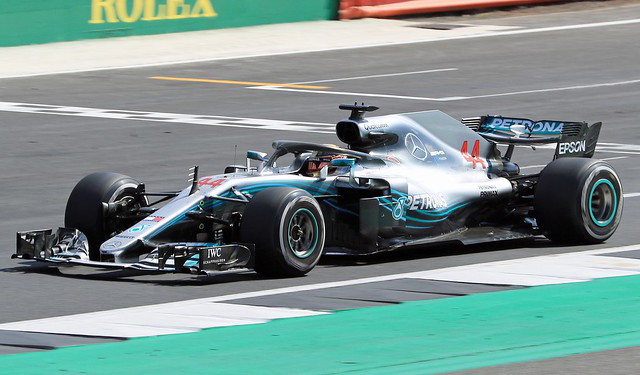F1 Car: (9, 100, 626, 281)
